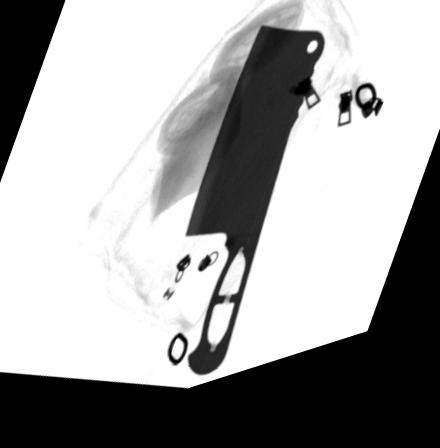Knife: (182, 40, 327, 389)
